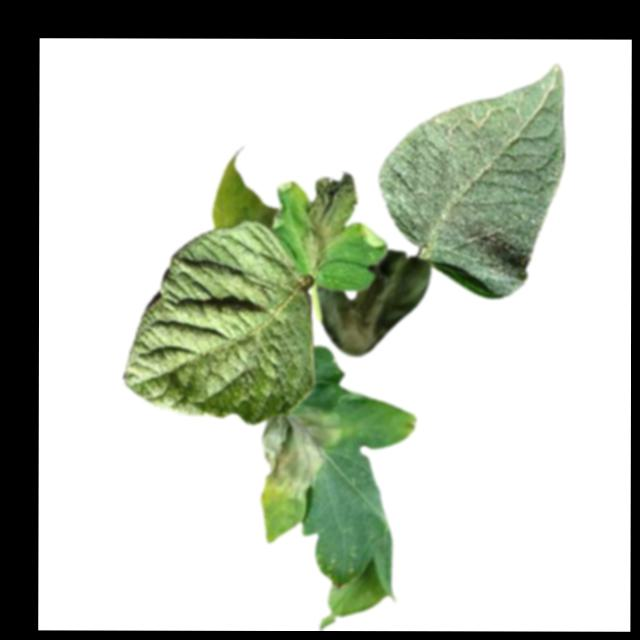Late_blight: (312, 248, 431, 355), (259, 408, 340, 499), (208, 144, 281, 228), (300, 171, 359, 273)
healthy: (377, 62, 566, 301), (121, 218, 315, 424)
